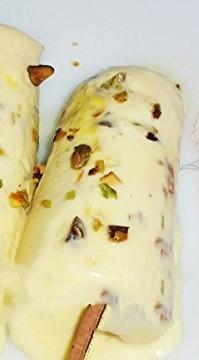Kulfi: (9, 66, 181, 360), (0, 24, 40, 346)
